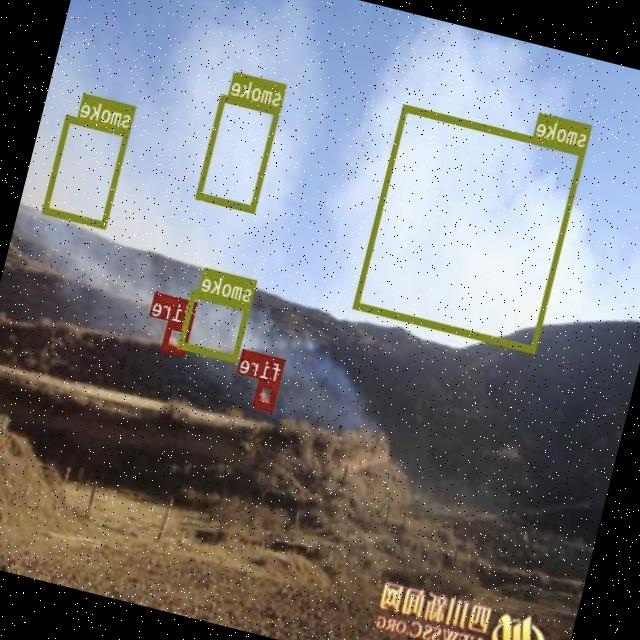fire: (162, 321, 192, 354), (254, 378, 280, 411)
smoke: (354, 104, 586, 352), (196, 93, 281, 213), (42, 114, 130, 227), (178, 289, 252, 362)
